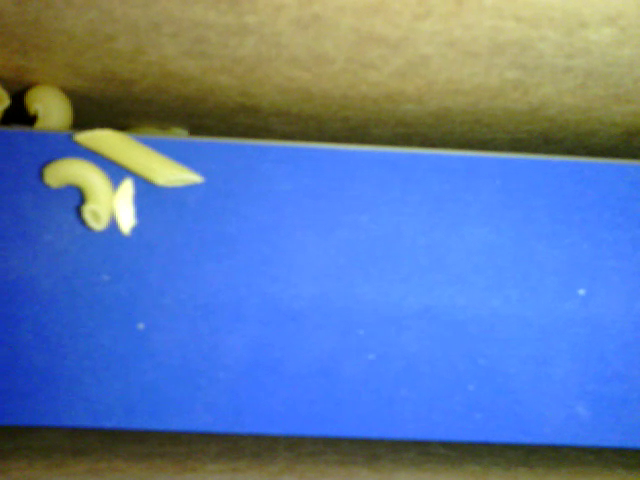elbow: (46, 160, 113, 231)
penne: (64, 122, 203, 186)
shell: (24, 84, 77, 130)
